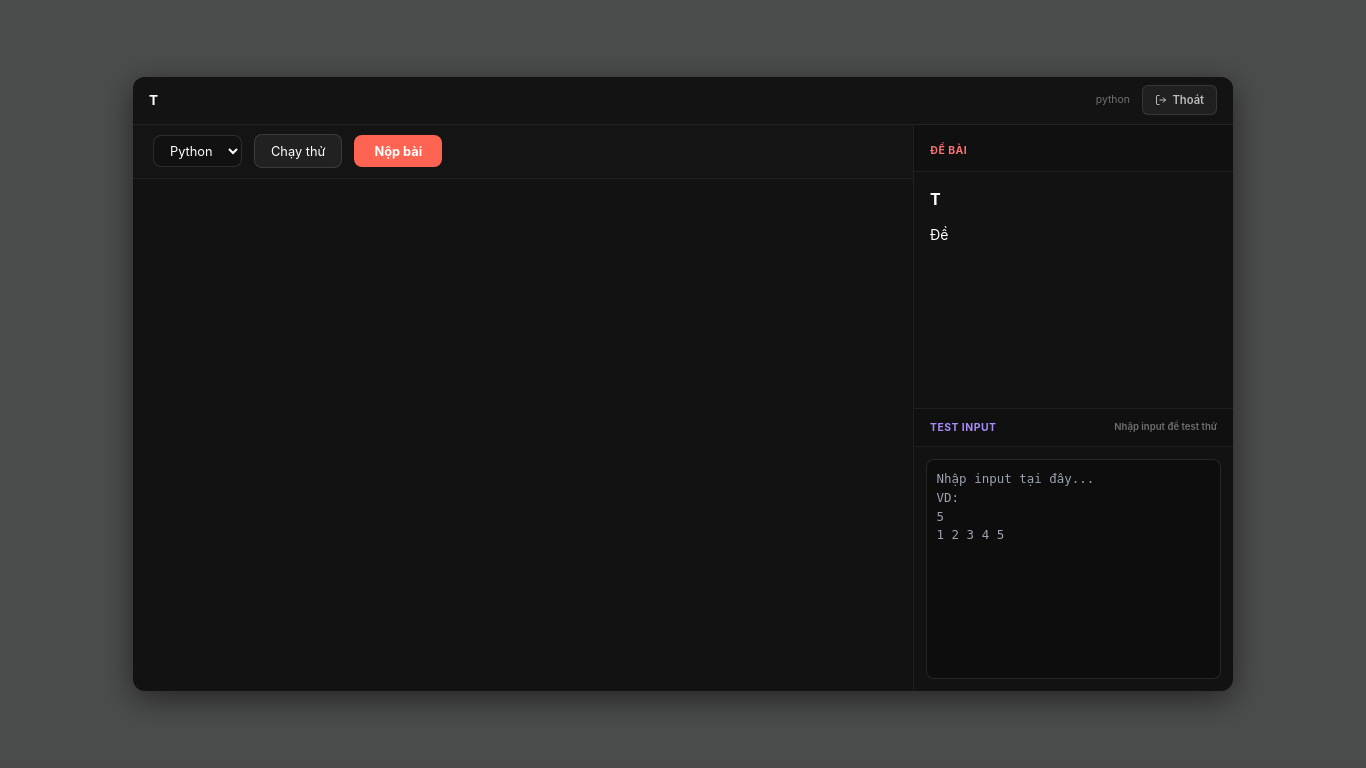
Test: AssignmentWorkOverlay — máy chấm không sẵn sàng (503) › Chạy thử: hiện message tiếng Việt của backend, không phải 'HTTP 503'
Click the button "Chạy thử" at coordinates (298, 151), box [254, 134, 342, 168]
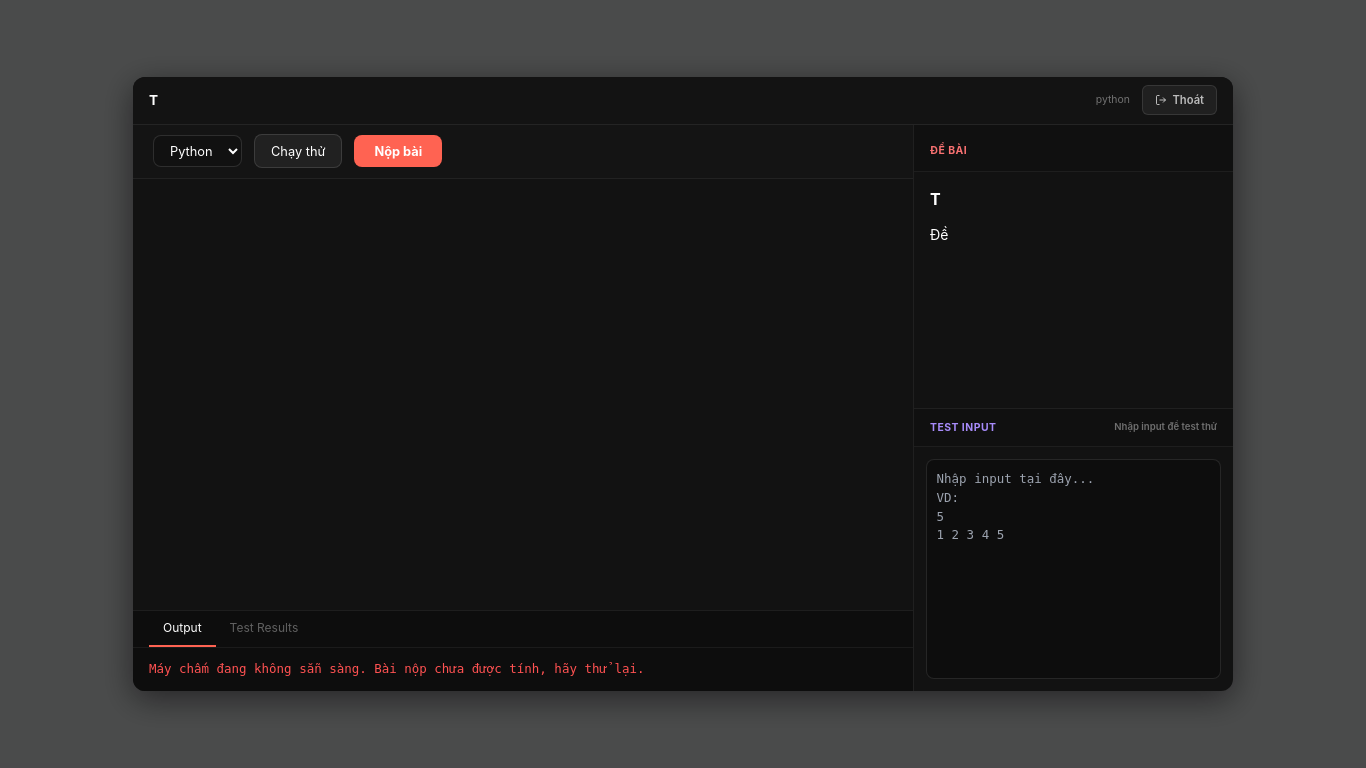
Check: the text "Máy chấm đang không sẵn sàng. Bài nộp chưa được tính, hãy thử lại." is shown, box [149, 662, 644, 676]
